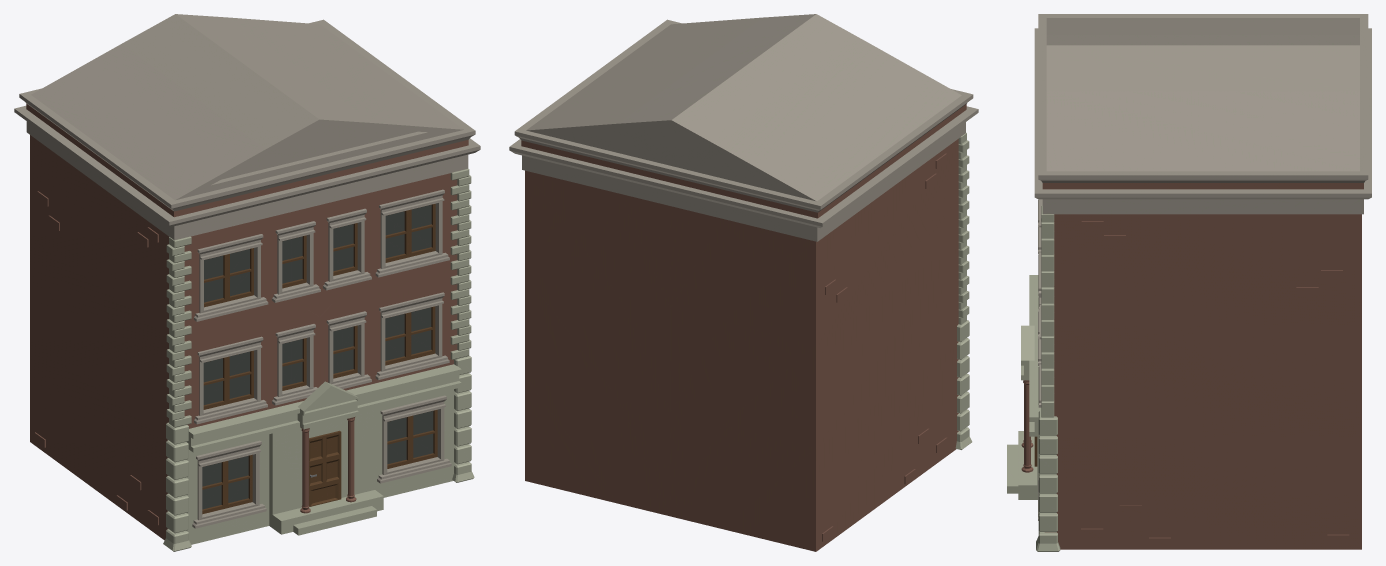
File: pp-bigbld.glb
The picture shows the model from 3 angles, left to right: view 1: azimuth 30°, elevation 25°; view 2: azimuth 150°, elevation 25°; view 3: azimuth 270°, elevation 25°; orthographic projection. The views are drawn at different scales.
Parts seen in each view (by area): view 1: Building3_Big; view 2: Building3_Big; view 3: Building3_Big.
Part boxes in pixels (left/top/right/bottom): Building3_Big: left=14, top=14, right=480, bottom=551; Building3_Big: left=509, top=14, right=978, bottom=551; Building3_Big: left=1007, top=14, right=1371, bottom=551.
Size of the model in its own units: 4.71 by 5.68 by 4.39.
1 material, 1 textured.
